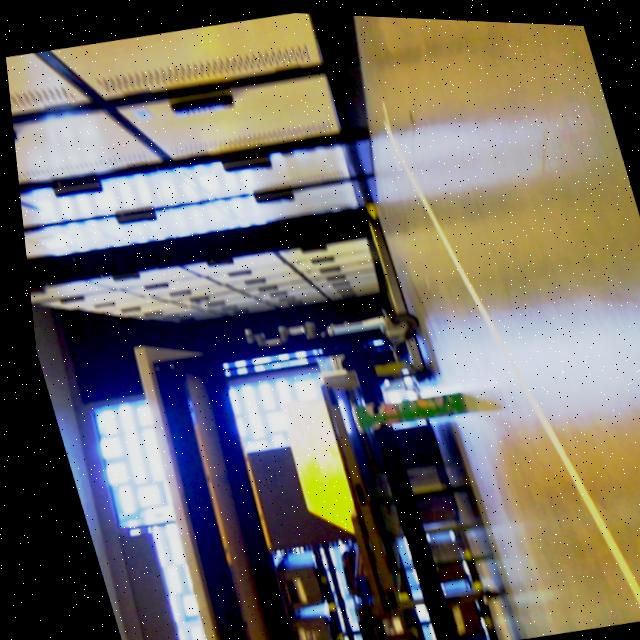greenpringles: (322, 354, 476, 446)
